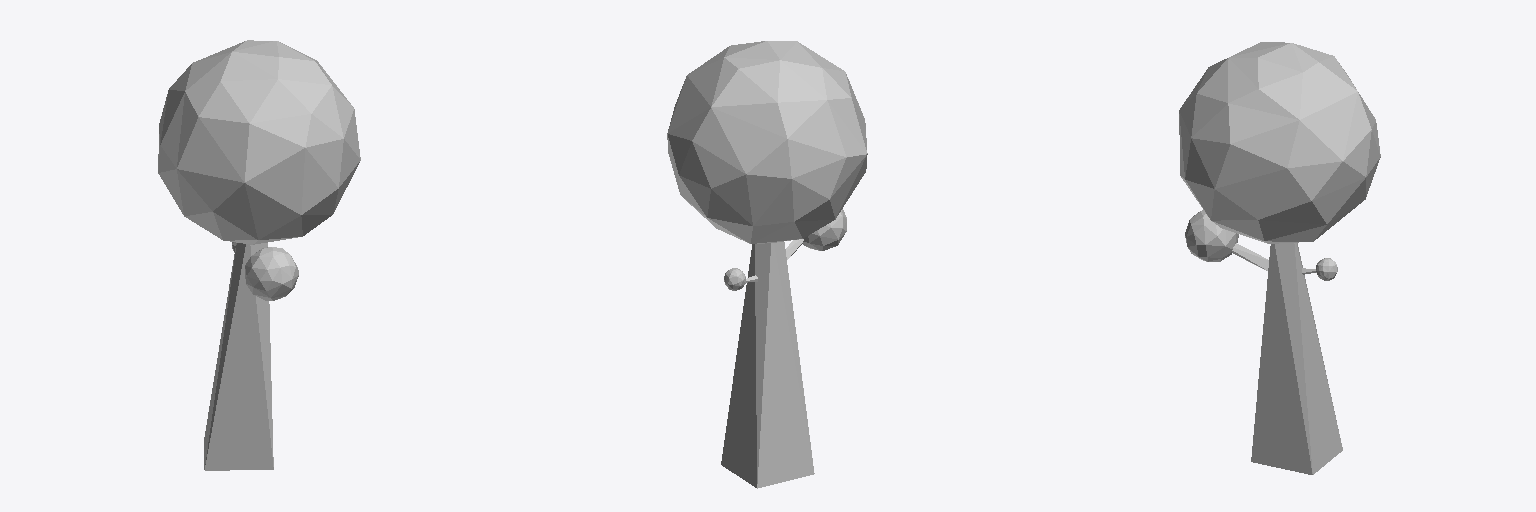
Rendered from tree_1.obj.
3 views of the same model, side by side, from view 1: azimuth 30°, elevation 25°; view 2: azimuth 150°, elevation 25°; view 3: azimuth 270°, elevation 25° (orthographic).
Visible parts, largest first — view 1: Sphere, Cylinder, Sphere.001; view 2: Sphere, Cylinder, Sphere.001; view 3: Sphere, Cylinder, Sphere.001.
Part boxes in pixels (x1,y1,x2,y2): Sphere: (158,40,360,244); Cylinder: (204,243,273,470); Sphere.001: (245,247,298,300); Sphere: (667,41,867,243); Cylinder: (721,242,814,488); Sphere.001: (803,209,846,250); Sphere: (1179,42,1380,243); Cylinder: (1251,243,1342,474); Sphere.001: (1185,210,1238,261).
Size of the model in its own units: 2.02 by 4.42 by 1.98.